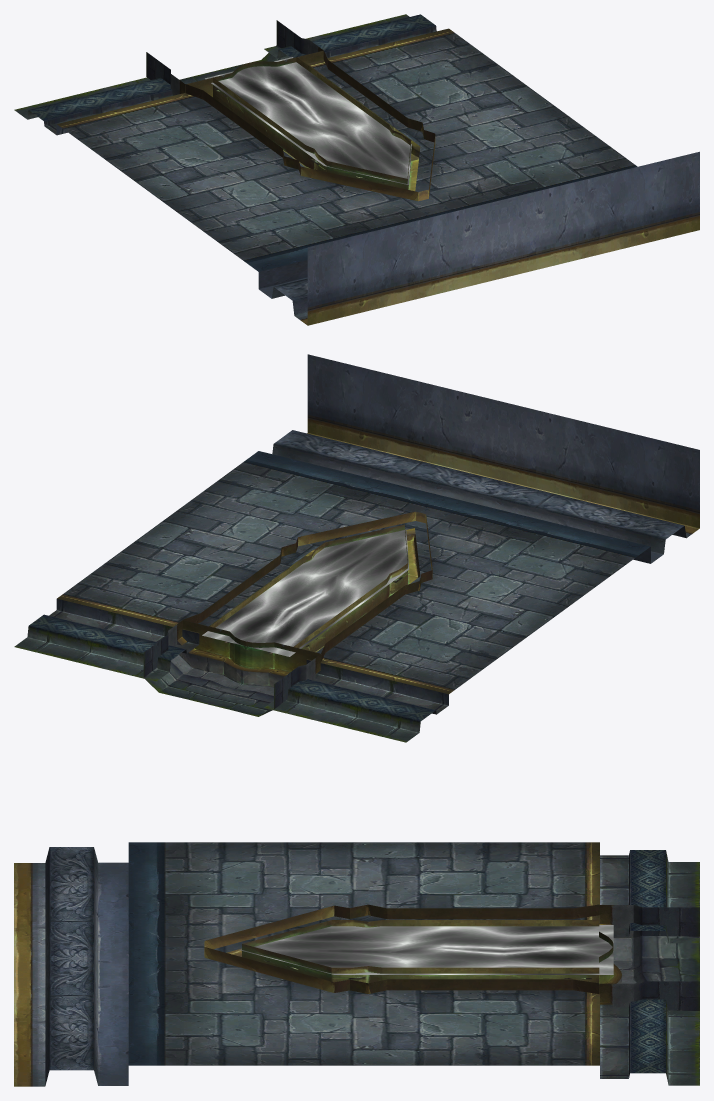
The model's file is huodong_fuben_417_qiang01.obj.
The picture shows the model from 3 angles, top to bottom: view 1: azimuth 30°, elevation 25°; view 2: azimuth 150°, elevation 25°; view 3: azimuth 270°, elevation 25°; orthographic projection. The views are drawn at different scales.
Visible parts, largest first — view 1: huodong_fuben_417_qiang01, ch_uv; view 2: huodong_fuben_417_qiang01, ch_uv; view 3: huodong_fuben_417_qiang01, ch_uv.
Boxes of the visible parts, left/top/right/bottom form: huodong_fuben_417_qiang01: left=14, top=14, right=699, bottom=325; ch_uv: left=205, top=57, right=411, bottom=184; huodong_fuben_417_qiang01: left=14, top=354, right=699, bottom=742; ch_uv: left=202, top=529, right=409, bottom=656; huodong_fuben_417_qiang01: left=14, top=842, right=699, bottom=1086; ch_uv: left=239, top=925, right=613, bottom=974.
Bounding box in the file's own units: 741 × 165 × 962.
3 materials, 3 textured.
